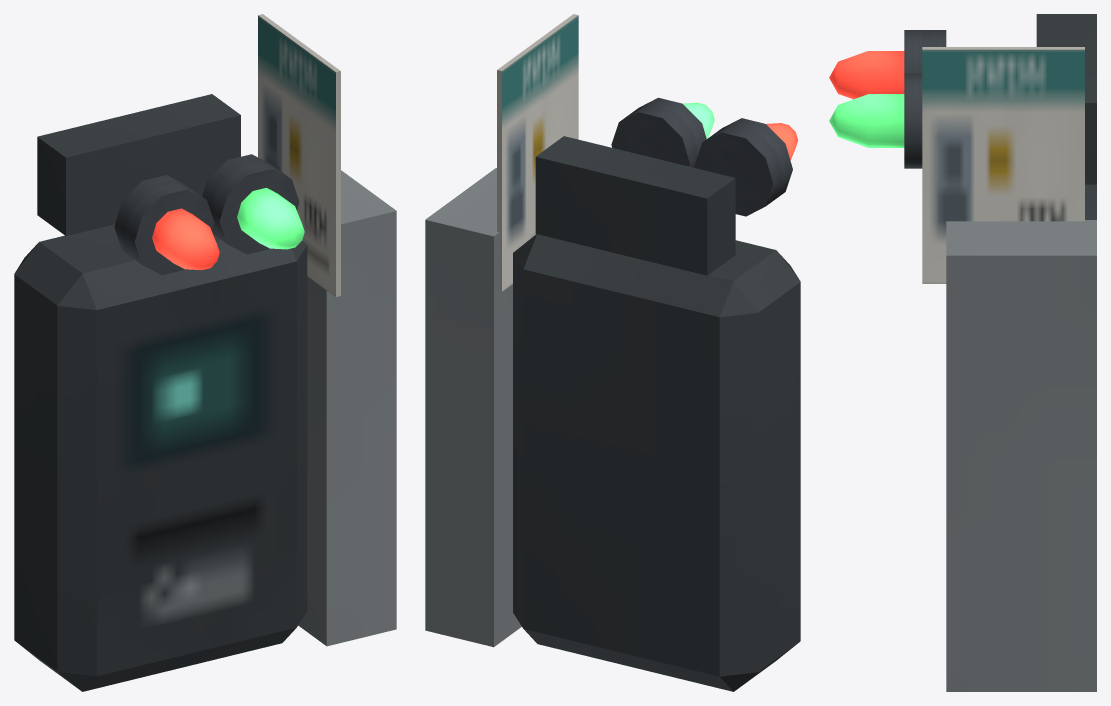
File: card_reader_ss.fbx
The picture shows the model from 3 angles, left to right: view 1: azimuth 30°, elevation 25°; view 2: azimuth 150°, elevation 25°; view 3: azimuth 270°, elevation 25°; orthographic projection. The views are drawn at different scales.
Parts seen in each view (by area): view 1: card_reader_ss, card_reader_ss_card, card_reader_ss_lamp, card_reader_ss_lamp_idle; view 2: card_reader_ss, card_reader_ss_card; view 3: card_reader_ss, card_reader_ss_card, card_reader_ss_lamp, card_reader_ss_lamp_idle.
Part boxes in pixels (left/top/right/bottom): card_reader_ss: left=14, top=94, right=396, bottom=691; card_reader_ss_card: left=258, top=14, right=340, bottom=296; card_reader_ss_lamp: left=237, top=187, right=304, bottom=249; card_reader_ss_lamp_idle: left=152, top=208, right=219, bottom=270; card_reader_ss: left=425, top=97, right=800, bottom=691; card_reader_ss_card: left=497, top=14, right=578, bottom=291; card_reader_ss: left=904, top=14, right=1096, bottom=691; card_reader_ss_card: left=922, top=47, right=1084, bottom=283; card_reader_ss_lamp: left=829, top=94, right=904, bottom=147; card_reader_ss_lamp_idle: left=829, top=51, right=904, bottom=99.
Bounding box in the file's own units: 0.13 × 0.223 × 0.089.
Materials: 1 (1 with a texture image).
